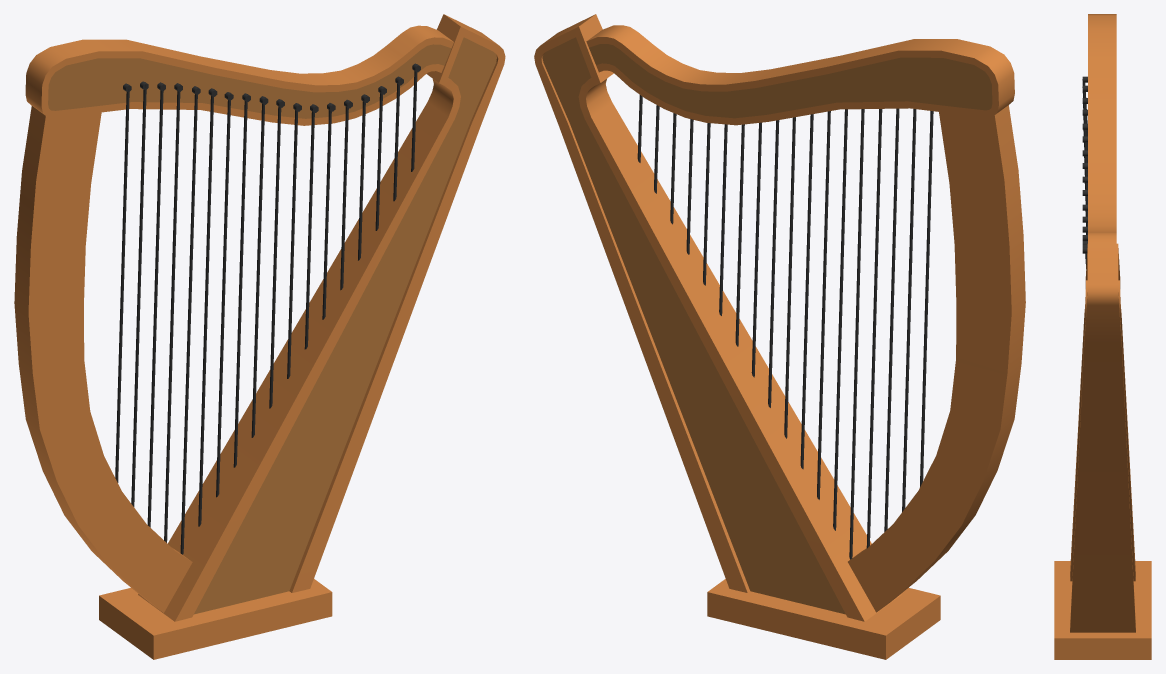
Rendered from Harp_01.fbx.
3 views of the same model, side by side, from view 1: azimuth 30°, elevation 25°; view 2: azimuth 150°, elevation 25°; view 3: azimuth 270°, elevation 25° (orthographic). The views are drawn at different scales.
Visible parts, largest first — view 1: Harp_01; view 2: Harp_01; view 3: Harp_01.
Boxes of the visible parts, x1,y1,x2,y2 form: Harp_01: (14, 14, 505, 659); Harp_01: (534, 14, 1025, 659); Harp_01: (1054, 14, 1151, 659).
Size of the model in its own units: 0.7782 by 0.9445 by 0.1551.
